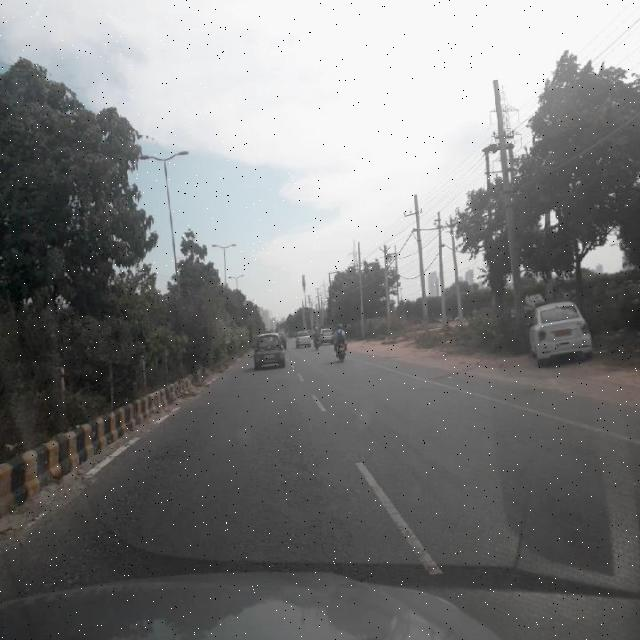D20: (382, 422, 640, 632), (12, 408, 208, 592), (220, 381, 374, 574)
D44: (24, 421, 157, 529)
